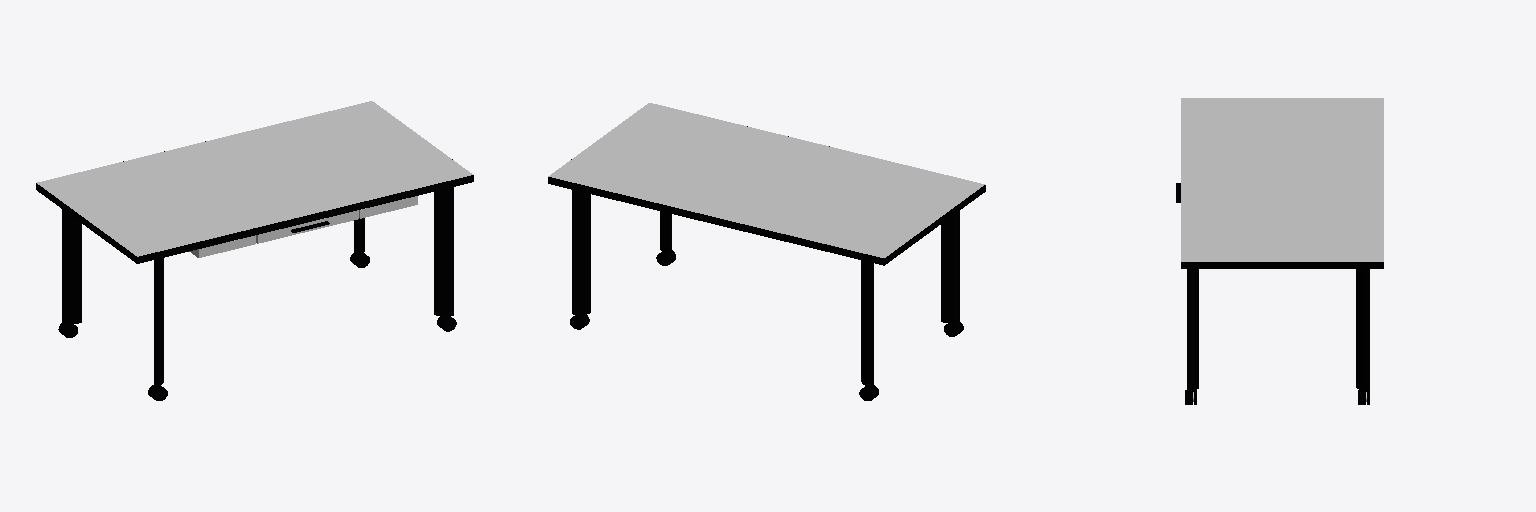
The model's file is office_table.obj.
3 views of the same model, side by side, from view 1: azimuth 30°, elevation 25°; view 2: azimuth 150°, elevation 25°; view 3: azimuth 270°, elevation 25° (orthographic).
Parts seen in each view (by area): view 1: Cube.028, Cube.029, Cube.002, Cube.009, Cube.010, Cube.027, Cube.006_Cube.036, Cube.011_Cube.037; view 2: Cube.028, Cube.029, Cube.003, Cube.010, Cube.009; view 3: Cube.028, Cube.003, Cube.002, Cube.029.
Part boxes in pixels (x1,y1,x2,y2): Cube.028: (37, 101, 472, 256); Cube.029: (36, 141, 473, 263); Cube.002: (434, 187, 453, 316); Cube.009: (62, 209, 81, 323); Cube.010: (154, 258, 163, 386); Cube.027: (256, 210, 358, 243); Cube.006_Cube.036: (189, 235, 255, 257); Cube.011_Cube.037: (359, 196, 417, 218); Cube.028: (548, 103, 984, 257); Cube.029: (548, 126, 985, 265); Cube.003: (572, 190, 590, 314); Cube.010: (941, 211, 959, 322); Cube.009: (861, 260, 873, 387); Cube.028: (1181, 98, 1383, 261); Cube.003: (1356, 269, 1369, 391); Cube.002: (1187, 269, 1198, 392); Cube.029: (1181, 262, 1383, 268).
Size of the model in its own units: 3.87 by 1.68 by 2.07.